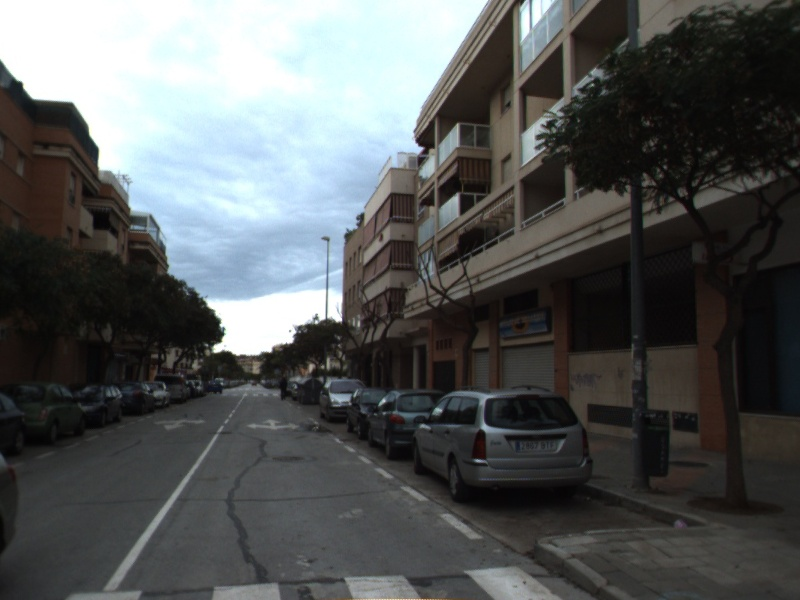STRAIGHT_LEFT_RIGHT: (245, 417, 302, 432)
